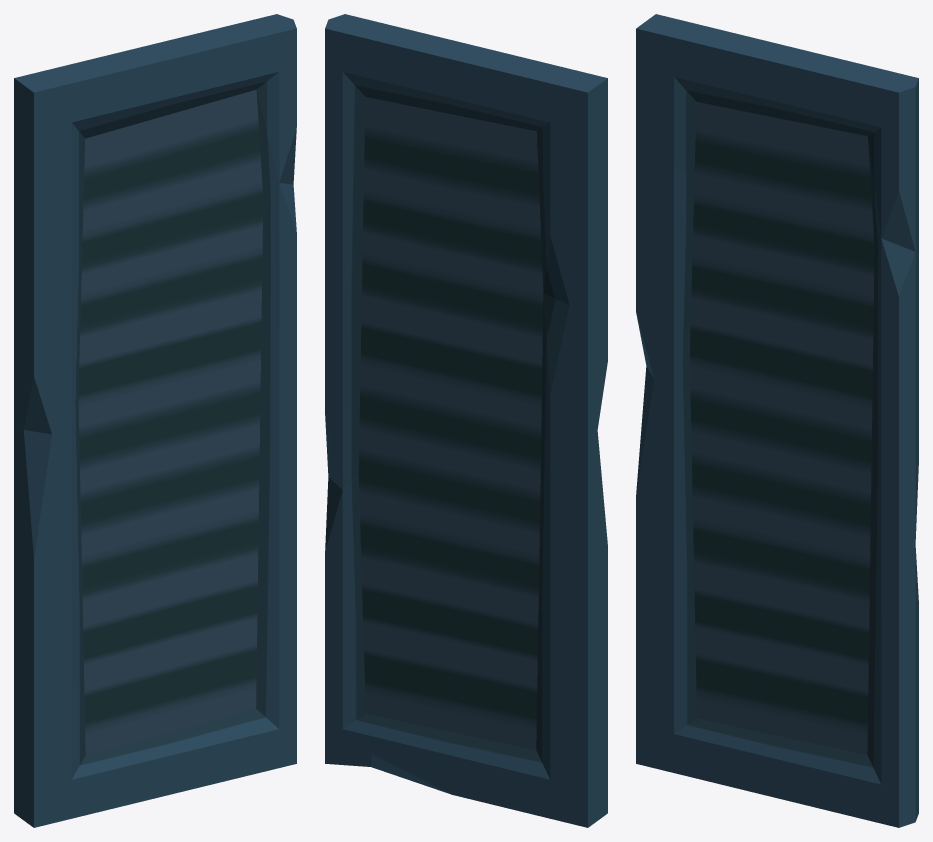
Rendered from SM_Bld_Village_Window_Shutter_L_01.glb.
The picture shows the model from 3 angles, left to right: view 1: azimuth 30°, elevation 25°; view 2: azimuth 150°, elevation 25°; view 3: azimuth 330°, elevation 25°; orthographic projection.
Parts seen in each view (by area): view 1: SM_Bld_Village_Window_Shutter_L_01; view 2: SM_Bld_Village_Window_Shutter_L_01; view 3: SM_Bld_Village_Window_Shutter_L_01.
Part boxes in pixels (<box>): SM_Bld_Village_Window_Shutter_L_01: <box>14,14,296,827</box>; SM_Bld_Village_Window_Shutter_L_01: <box>325,14,607,827</box>; SM_Bld_Village_Window_Shutter_L_01: <box>636,14,918,827</box>.
Size of the model in its own units: 0.6888 by 1.8 by 0.0879.
1 material, 1 textured.
